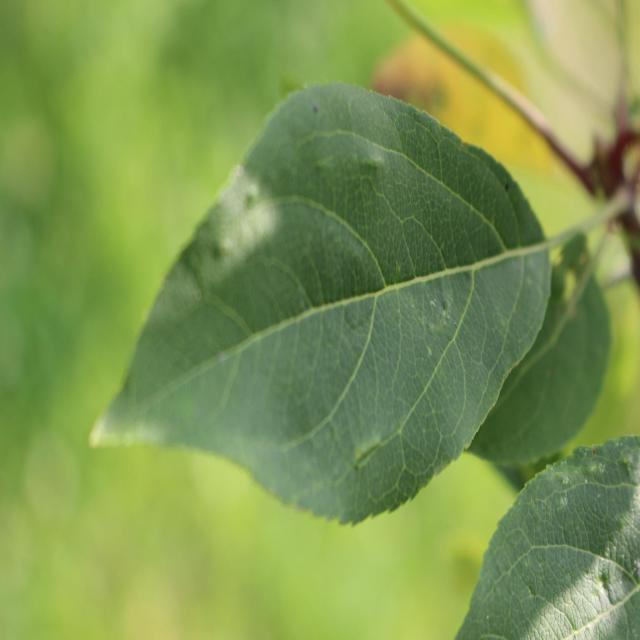scab: (459, 161, 555, 243), (291, 94, 336, 131)
